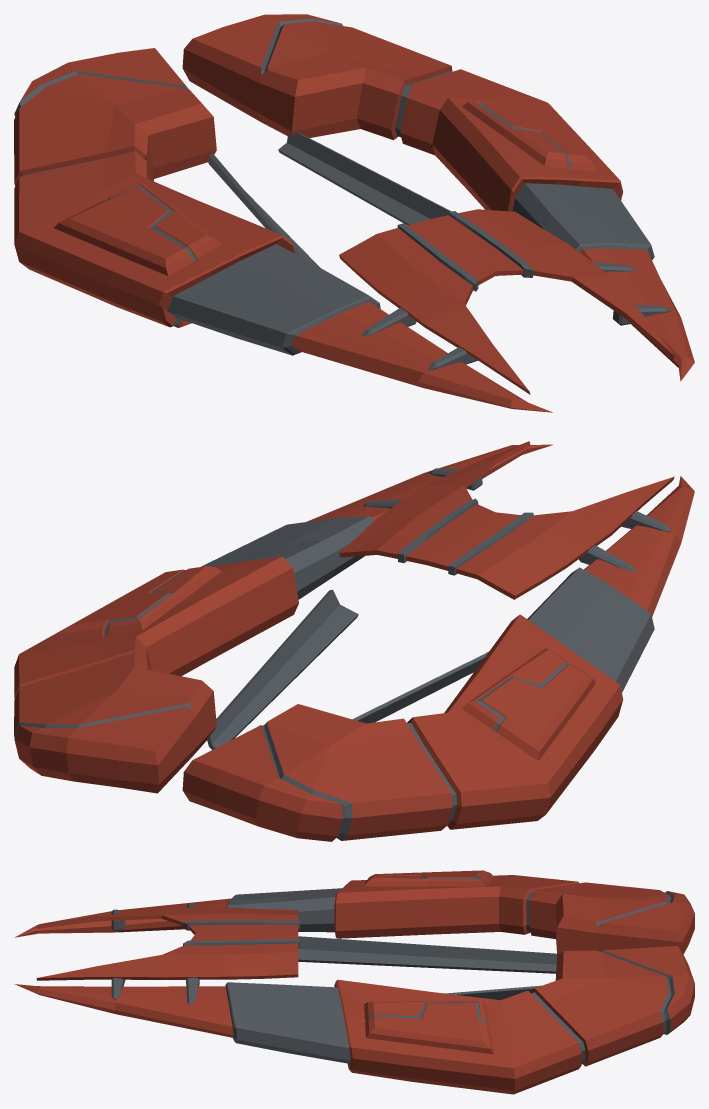
The model's file is Fighter_02_Outer_Frame_Red.fbx.
3 renders of one model, top to bottom at view 1: azimuth 30°, elevation 25°; view 2: azimuth 150°, elevation 25°; view 3: azimuth 270°, elevation 25°, orthographic. The views are drawn at different scales.
Visible parts, largest first — view 1: Fighter_02_Outer_Frame_Red; view 2: Fighter_02_Outer_Frame_Red; view 3: Fighter_02_Outer_Frame_Red.
Part boxes in pixels (left/top/right/bottom): Fighter_02_Outer_Frame_Red: left=14, top=14, right=694, bottom=412; Fighter_02_Outer_Frame_Red: left=14, top=441, right=694, bottom=841; Fighter_02_Outer_Frame_Red: left=14, top=870, right=694, bottom=1094.
Size of the model in its own units: 783 by 132 by 1151.
1 material, 1 textured.
